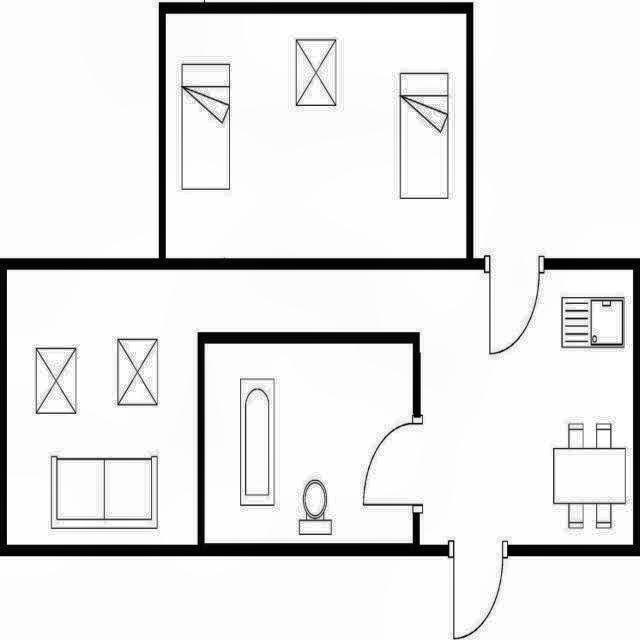room: (7, 270, 633, 545), (166, 13, 466, 258), (205, 343, 413, 543)
